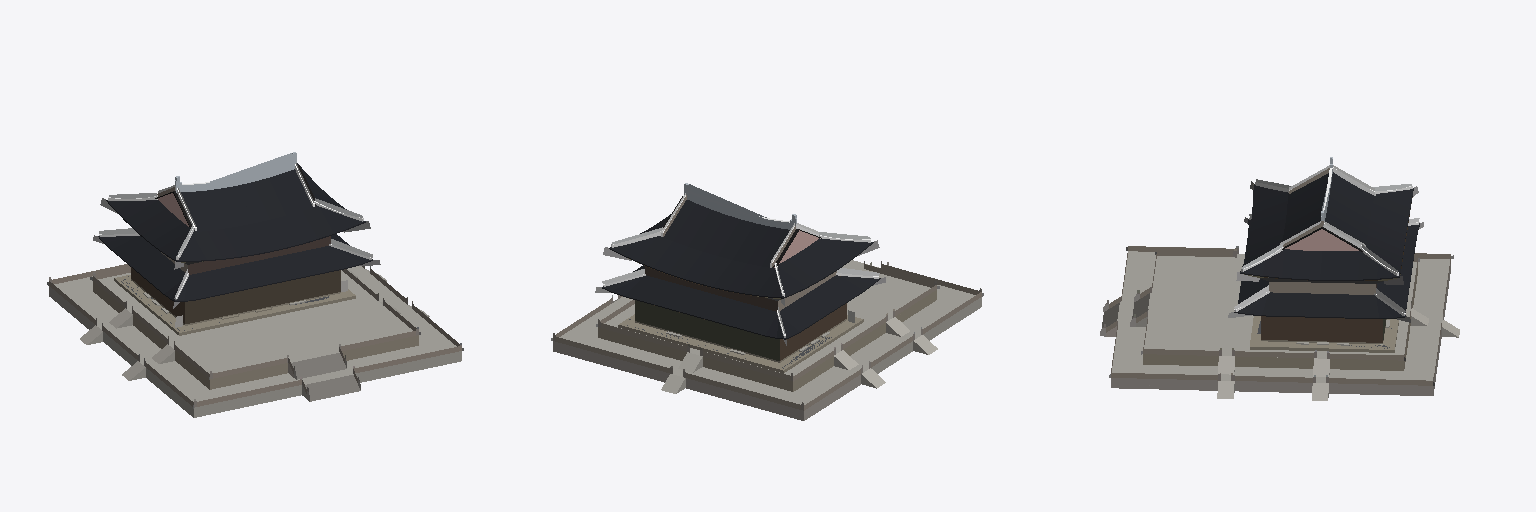
File: 경복궁.obj
3 views of the same model, side by side, from view 1: azimuth 30°, elevation 25°; view 2: azimuth 150°, elevation 25°; view 3: azimuth 270°, elevation 25° (orthographic).
Parts seen in each view (by area): view 1: Mesh70 Component_2_1 Group1 Model, Mesh45 Group6 Group2 Group1 Model, Mesh65 Group2 Group1 Model, Mesh64 Group2 Group1 Model, Mesh67 ___2_1 Group1 Model, Mesh34 ______20_1 Group6 Group2 Group1 Model, Mesh15 G_2____1_1 Group5 Group2 Group1 Model; view 2: Mesh70 Component_2_1 Group1 Model, Mesh45 Group6 Group2 Group1 Model, Mesh65 Group2 Group1 Model, Mesh64 Group2 Group1 Model, Mesh67 ___2_1 Group1 Model, Mesh34 ______20_1 Group6 Group2 Group1 Model, Mesh16 G_2____1_2 Group5 Group2 Group1 Model; view 3: Mesh70 Component_2_1 Group1 Model, Mesh45 Group6 Group2 Group1 Model, Mesh65 Group2 Group1 Model, Mesh64 Group2 Group1 Model, Mesh67 ___2_1 Group1 Model, Mesh13 G_2______1_1 Group5 Group2 Group1 Model.
Part boxes in pixels (x1,y1,x2,y2): Mesh70 Component_2_1 Group1 Model: (47, 264, 463, 417); Mesh45 Group6 Group2 Group1 Model: (106, 163, 365, 261); Mesh65 Group2 Group1 Model: (98, 234, 372, 301); Mesh64 Group2 Group1 Model: (131, 267, 340, 325); Mesh67 ___2_1 Group1 Model: (114, 275, 355, 335); Mesh34 ______20_1 Group6 Group2 Group1 Model: (175, 152, 296, 192); Mesh15 G_2____1_1 Group5 Group2 Group1 Model: (188, 236, 330, 274); Mesh70 Component_2_1 Group1 Model: (551, 260, 983, 420); Mesh45 Group6 Group2 Group1 Model: (609, 200, 873, 298); Mesh65 Group2 Group1 Model: (602, 265, 880, 339); Mesh64 Group2 Group1 Model: (635, 300, 846, 362); Mesh67 ___2_1 Group1 Model: (618, 314, 863, 373); Mesh34 ______20_1 Group6 Group2 Group1 Model: (684, 183, 797, 229); Mesh16 G_2____1_2 Group5 Group2 Group1 Model: (645, 266, 777, 311); Mesh70 Component_2_1 Group1 Model: (1100, 246, 1459, 400); Mesh45 Group6 Group2 Group1 Model: (1240, 172, 1413, 280); Mesh65 Group2 Group1 Model: (1234, 219, 1419, 318); Mesh64 Group2 Group1 Model: (1261, 316, 1386, 343); Mesh67 ___2_1 Group1 Model: (1250, 316, 1398, 352); Mesh13 G_2______1_1 Group5 Group2 Group1 Model: (1269, 282, 1375, 294).
Bounding box in the file's own units: 59862 × 28117 × 62863.